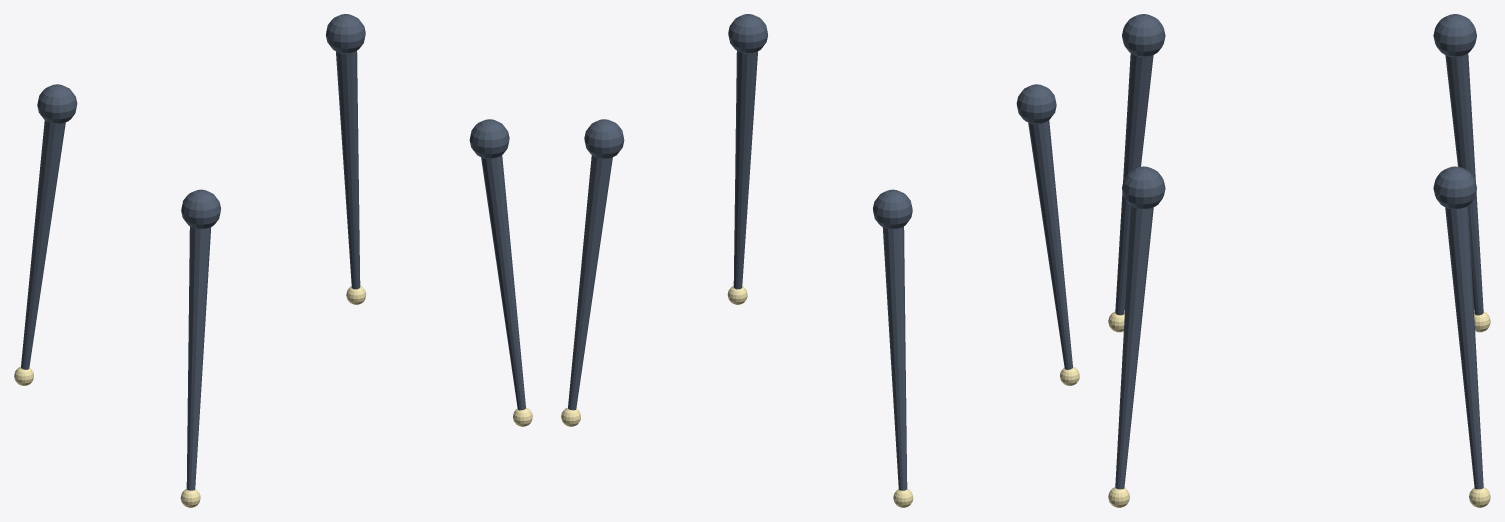
The model's file is SM_Antennes_Proue.obj.
The picture shows the model from 3 angles, left to right: view 1: azimuth 30°, elevation 25°; view 2: azimuth 150°, elevation 25°; view 3: azimuth 270°, elevation 25°; orthographic projection. The views are drawn at different scales.
Bounding box in the file's own units: 8000 × 6600 × 7000.
